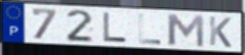2: (64, 9, 96, 44)
7: (30, 7, 59, 41)
K: (207, 15, 233, 49)
L: (102, 11, 129, 43), (138, 13, 164, 46)
M: (165, 13, 206, 49)
